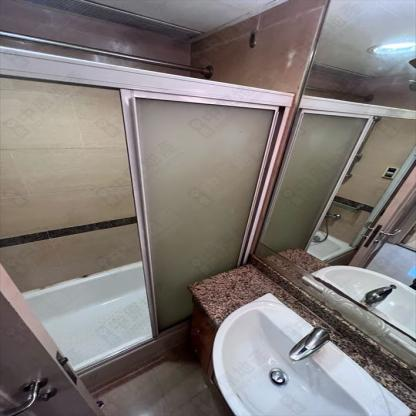Bathtub: (24, 260, 152, 371)
Faucet: (283, 327, 339, 362)
Toilet Sink: (210, 292, 413, 415)
Water Cubicle: (121, 94, 275, 333)
